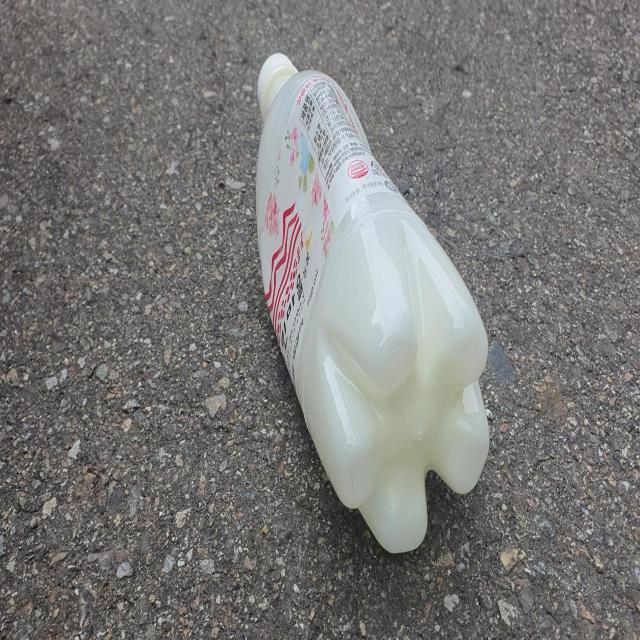plastic: (256, 53, 490, 553)
